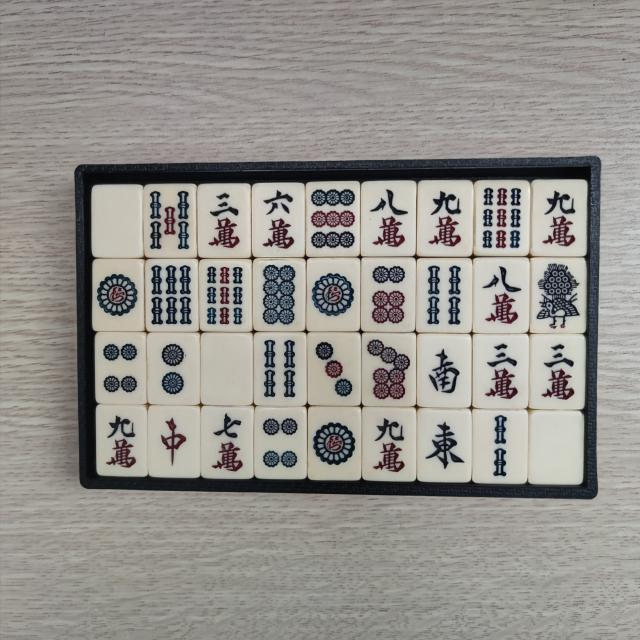hdr: (155, 412, 194, 474)
hdw: (96, 188, 138, 252), (536, 416, 578, 480), (206, 338, 248, 401)
hwe: (423, 415, 469, 478)
hws: (424, 339, 467, 402)
sb1: (534, 260, 582, 330)
sb2: (478, 412, 522, 480)
sb4: (423, 262, 468, 328), (260, 338, 302, 402)
sb5: (148, 189, 192, 255)
sb6: (152, 264, 197, 328)
sb9: (479, 184, 524, 250), (206, 263, 248, 327)
sc3: (536, 338, 582, 405), (478, 338, 523, 406), (205, 187, 248, 252)
sc6: (258, 187, 300, 252)
sc7: (207, 411, 250, 475)
sc8: (364, 184, 410, 252), (478, 262, 523, 328)
sc9: (366, 414, 412, 478), (424, 185, 468, 251), (538, 184, 582, 250), (102, 412, 144, 474)
sd1: (313, 414, 360, 478), (312, 262, 358, 326), (96, 266, 140, 328)
sd2: (154, 338, 196, 400)
sd3: (314, 337, 359, 402)
sd4: (259, 412, 303, 476), (98, 339, 142, 401)
sd6: (368, 262, 411, 326)
sd7: (366, 337, 414, 402)
sd8: (258, 263, 301, 328)
sd9: (311, 186, 358, 252)
